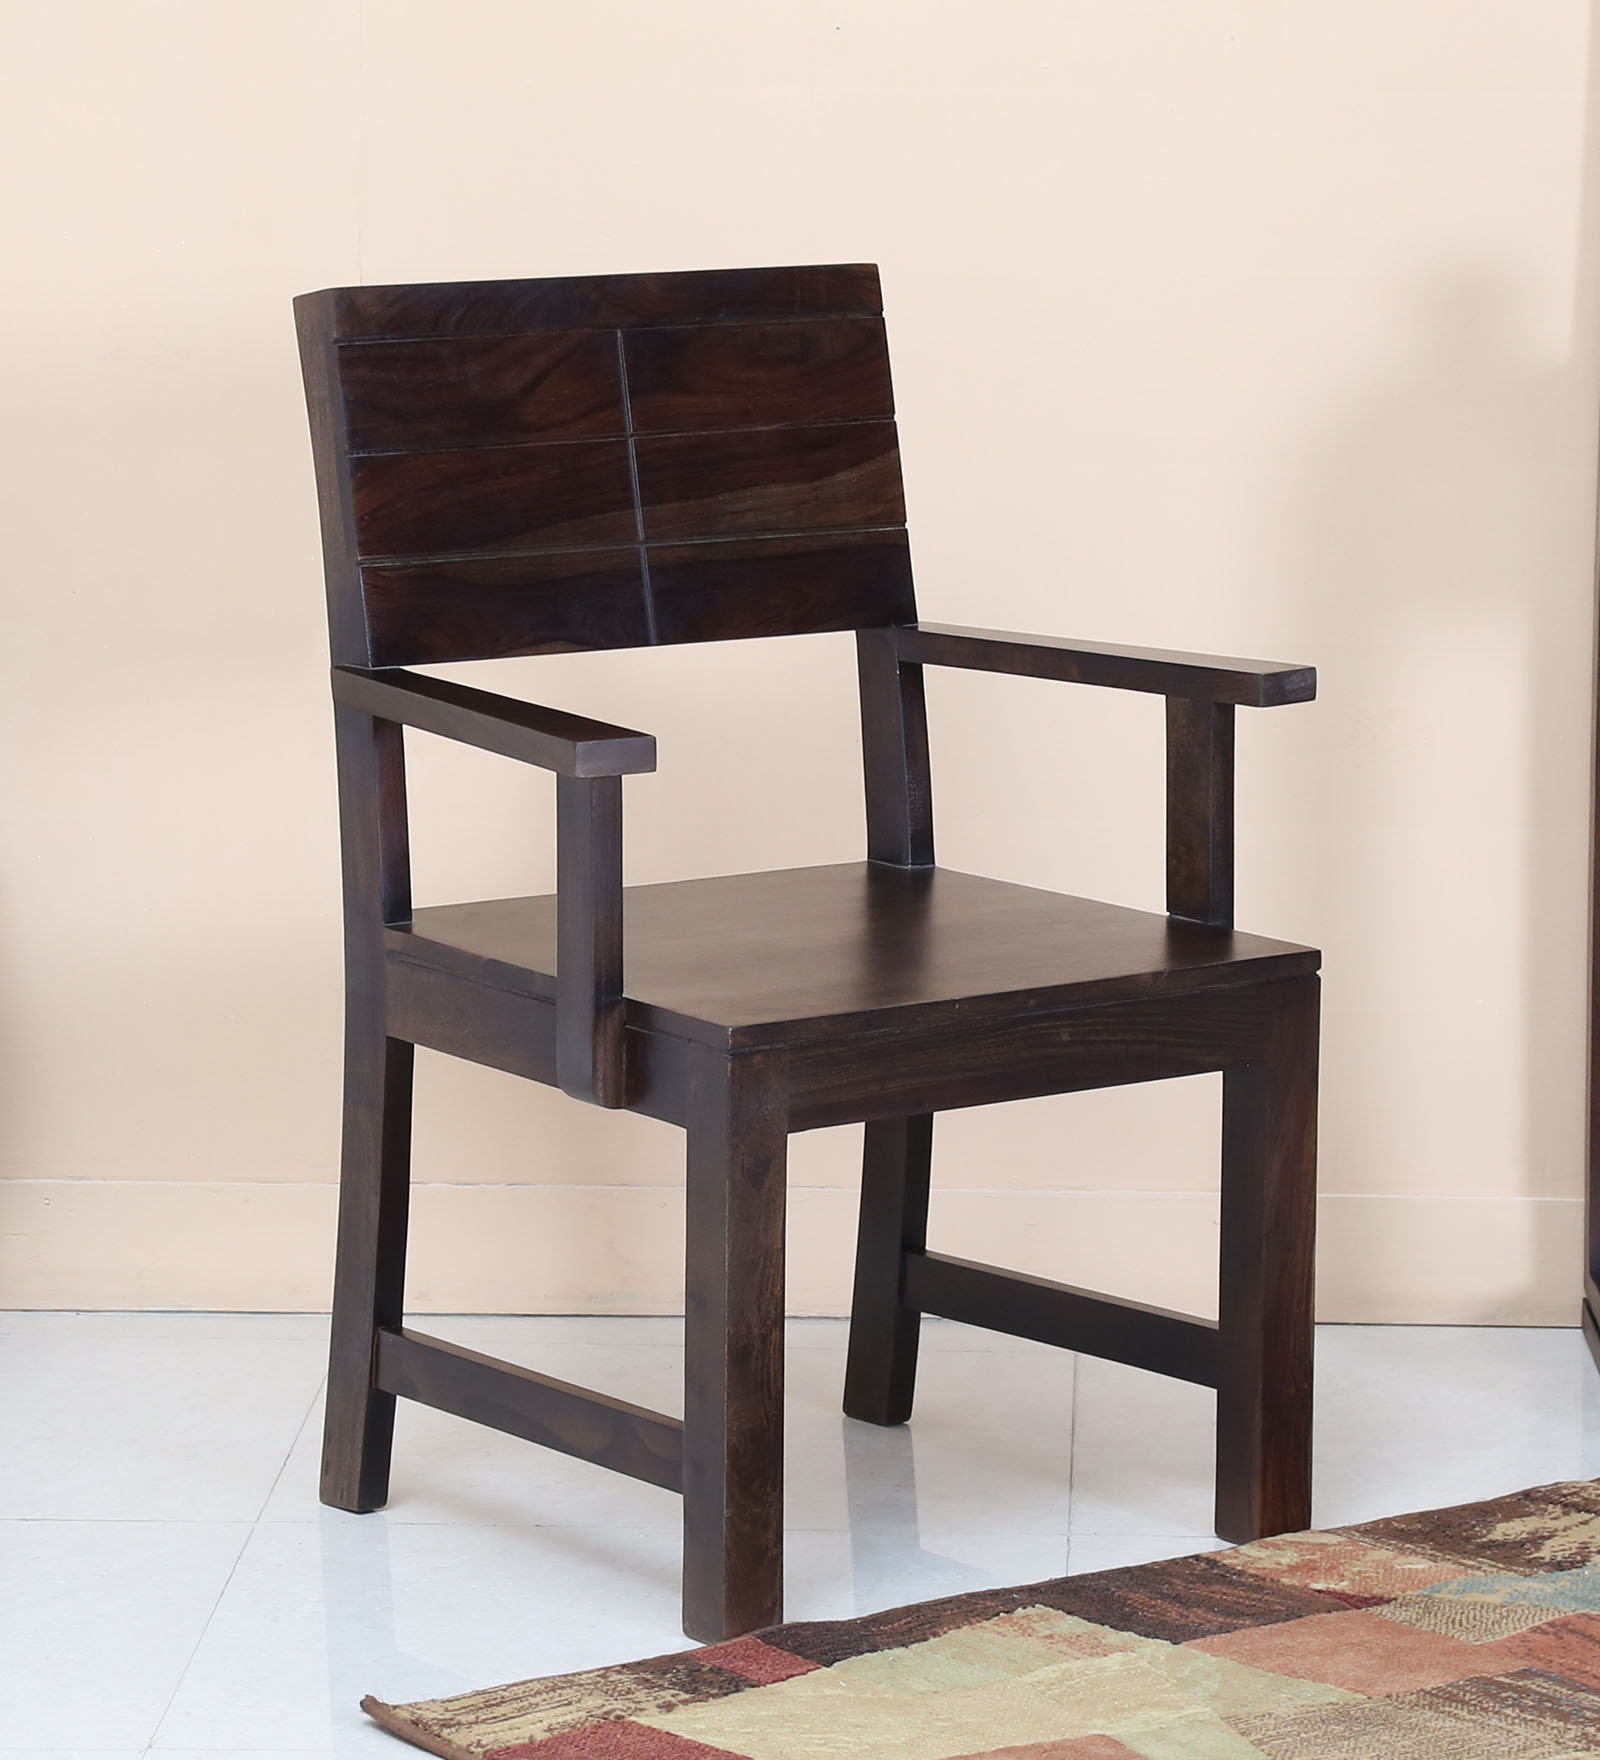Segur Arm Chair in Warm Chestnut Finish by Woodsworth: (204, 173, 1382, 1657)
